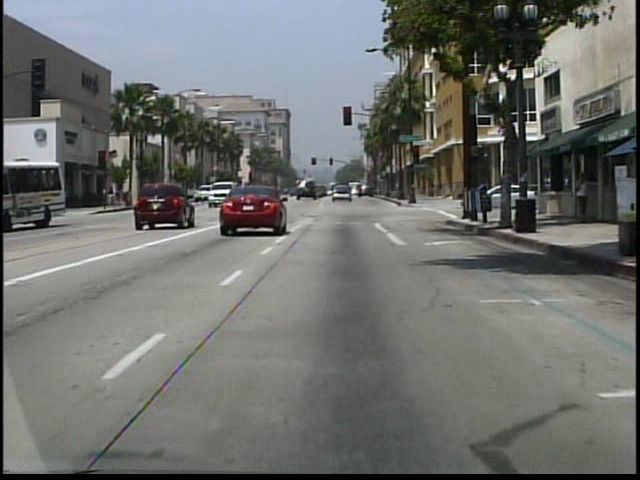person: (571, 169, 593, 225)
